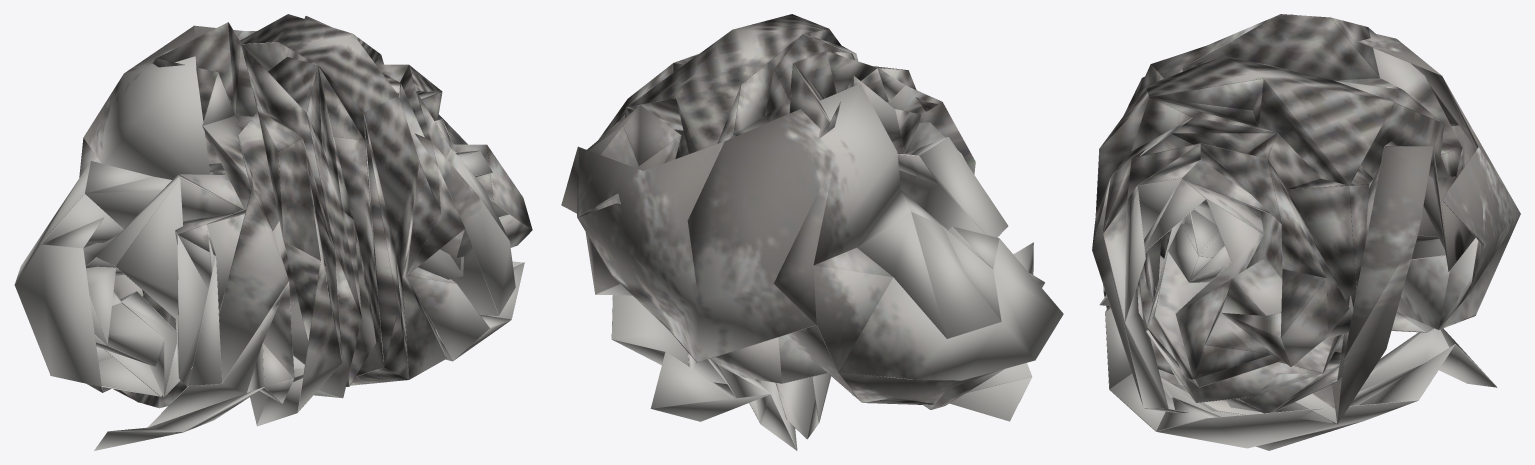
The model's file is crumpledpaper6_reference.001.fbx.
3 views of the same model, side by side, from view 1: azimuth 30°, elevation 25°; view 2: azimuth 150°, elevation 25°; view 3: azimuth 270°, elevation 25° (orthographic). The views are drawn at different scales.
Visible parts, largest first — view 1: crumpledpaper6_reference.001; view 2: crumpledpaper6_reference.001; view 3: crumpledpaper6_reference.001.
Part boxes in pixels (<box>): crumpledpaper6_reference.001: <box>14,14,532,450</box>; crumpledpaper6_reference.001: <box>561,14,1063,450</box>; crumpledpaper6_reference.001: <box>1092,14,1520,450</box>.
Bounding box in the file's own units: 18.19 × 14.2 × 13.87.
